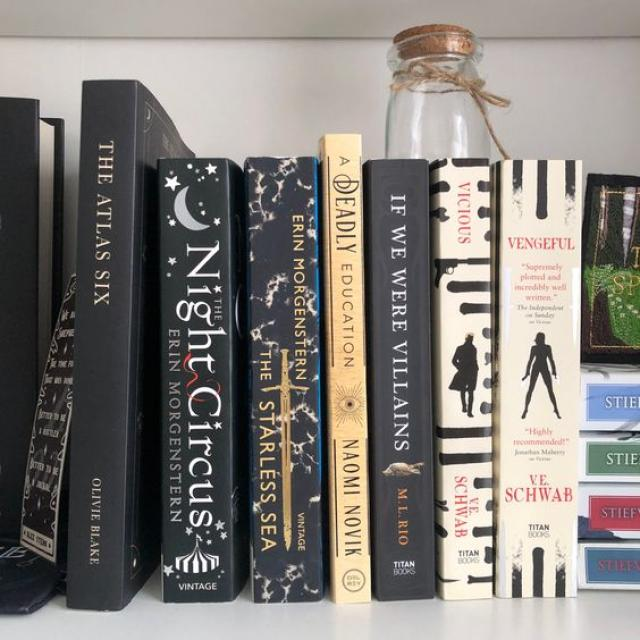book: (66, 81, 158, 610), (159, 159, 247, 601), (492, 160, 581, 597), (245, 157, 323, 601), (363, 159, 433, 600), (431, 158, 492, 598), (321, 134, 370, 603)
